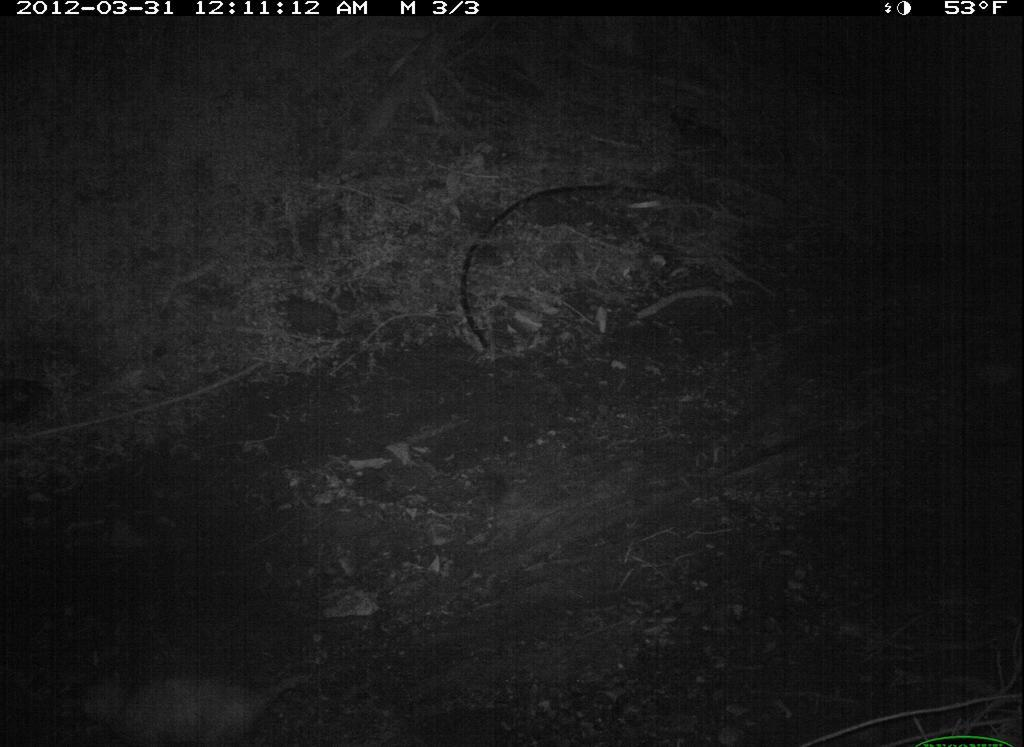opossum: (39, 647, 349, 747)
